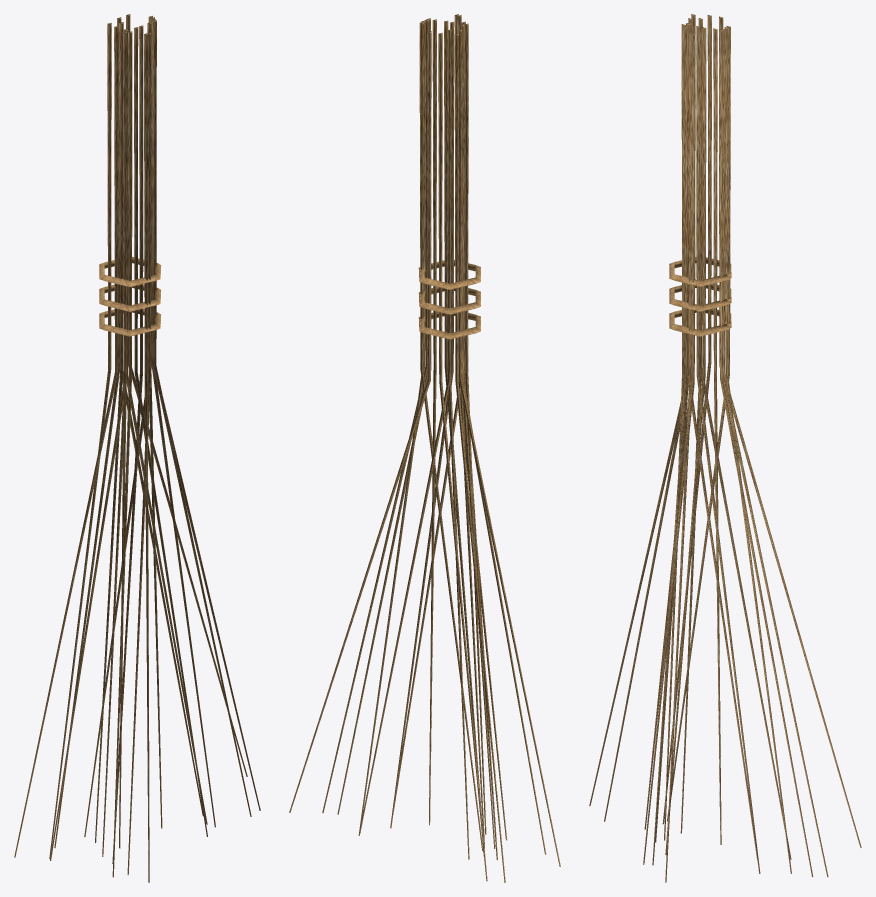
File: prop_jharu_lod1.glb
The picture shows the model from 3 angles, left to right: view 1: azimuth 30°, elevation 25°; view 2: azimuth 150°, elevation 25°; view 3: azimuth 330°, elevation 25°; orthographic projection.
Visible parts, largest first — view 1: prop_jharu; view 2: prop_jharu; view 3: prop_jharu.
Boxes of the visible parts, x1,y1,x2,y2 form: prop_jharu: (14,14,260,882); prop_jharu: (289,14,560,882); prop_jharu: (589,14,861,882).
Bounding box in the file's own units: 0.2208 × 0.7 × 0.0744.
Materials: 2 (2 with a texture image).
